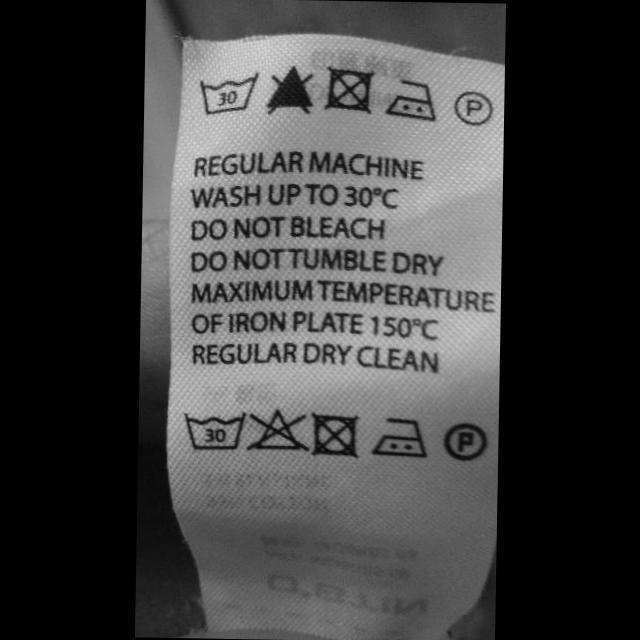30C: (194, 63, 262, 118), (178, 406, 248, 454)
DN_bleach: (242, 402, 312, 457), (260, 62, 318, 120)
DN_tumble_dry: (320, 59, 378, 118), (307, 408, 361, 461)
iron_medium: (382, 72, 441, 126), (370, 410, 430, 463)
normal_dry_clean_solvents: (440, 415, 488, 466), (448, 85, 495, 134)
